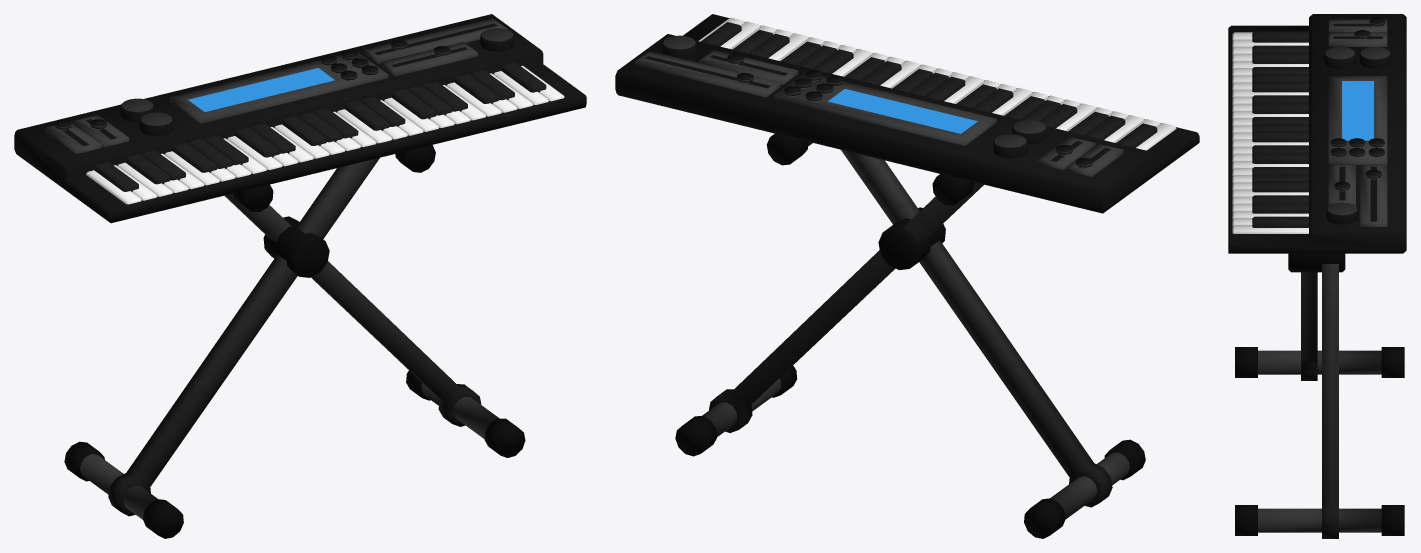
The model's file is SM_Musical_Instrument_3.fbx.
3 renders of one model, left to right at view 1: azimuth 30°, elevation 25°; view 2: azimuth 150°, elevation 25°; view 3: azimuth 270°, elevation 25°, orthographic. The views are drawn at different scales.
Visible parts, largest first — view 1: SM_Musical_Instrument_3; view 2: SM_Musical_Instrument_3; view 3: SM_Musical_Instrument_3.
Boxes of the visible parts, <box> form: SM_Musical_Instrument_3: <box>14,14,586,538</box>; SM_Musical_Instrument_3: <box>615,14,1199,538</box>; SM_Musical_Instrument_3: <box>1228,14,1406,538</box>.
Size of the model in its own units: 107 by 79.36 by 36.91.
1 material, 1 textured.
